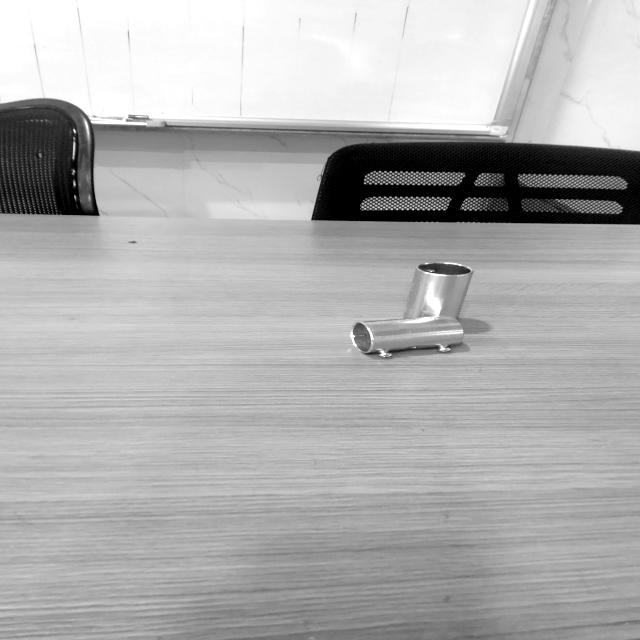Co_Lon: (402, 253, 474, 332)
Co_Nho: (350, 314, 466, 360)
